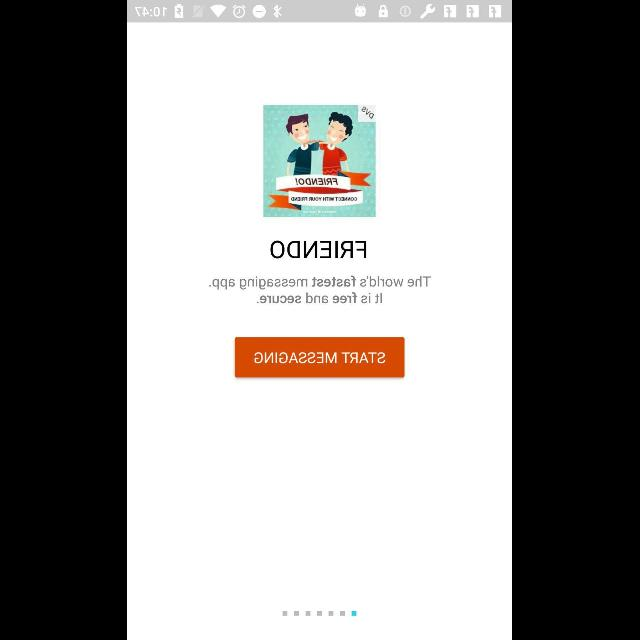image: (264, 105, 376, 217)
pageindicator: (282, 610, 358, 616)
text: (210, 276, 432, 304), (271, 241, 367, 259)
textbutton: (235, 337, 405, 378)
uppertaskbar: (128, 1, 512, 23)
